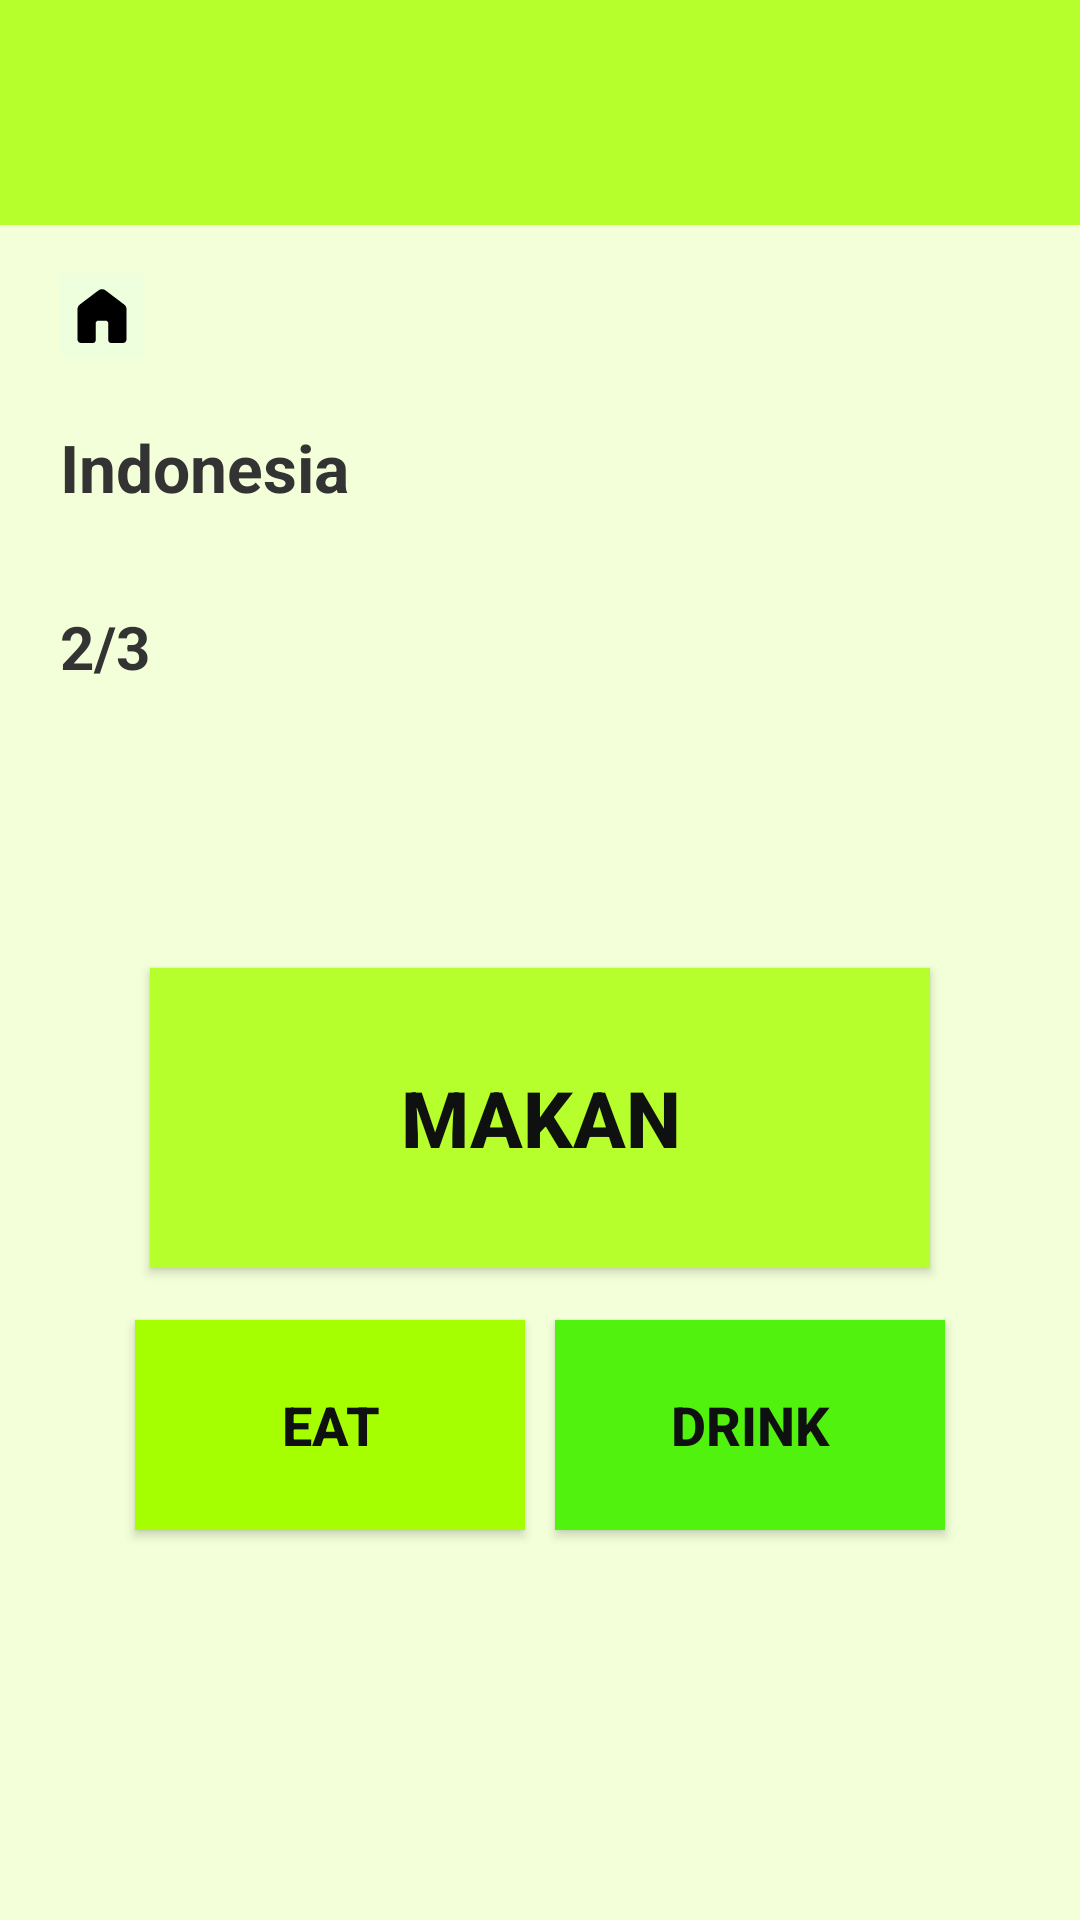

Icon click points for this 1080x1920 phone screenshot, format [x,y]:
Home: [102,316]
